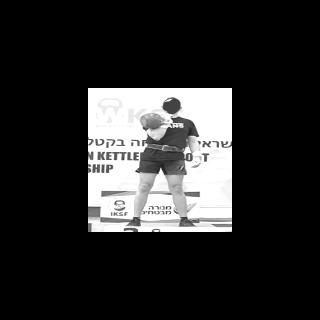kettlebell: (139, 111, 174, 129)
